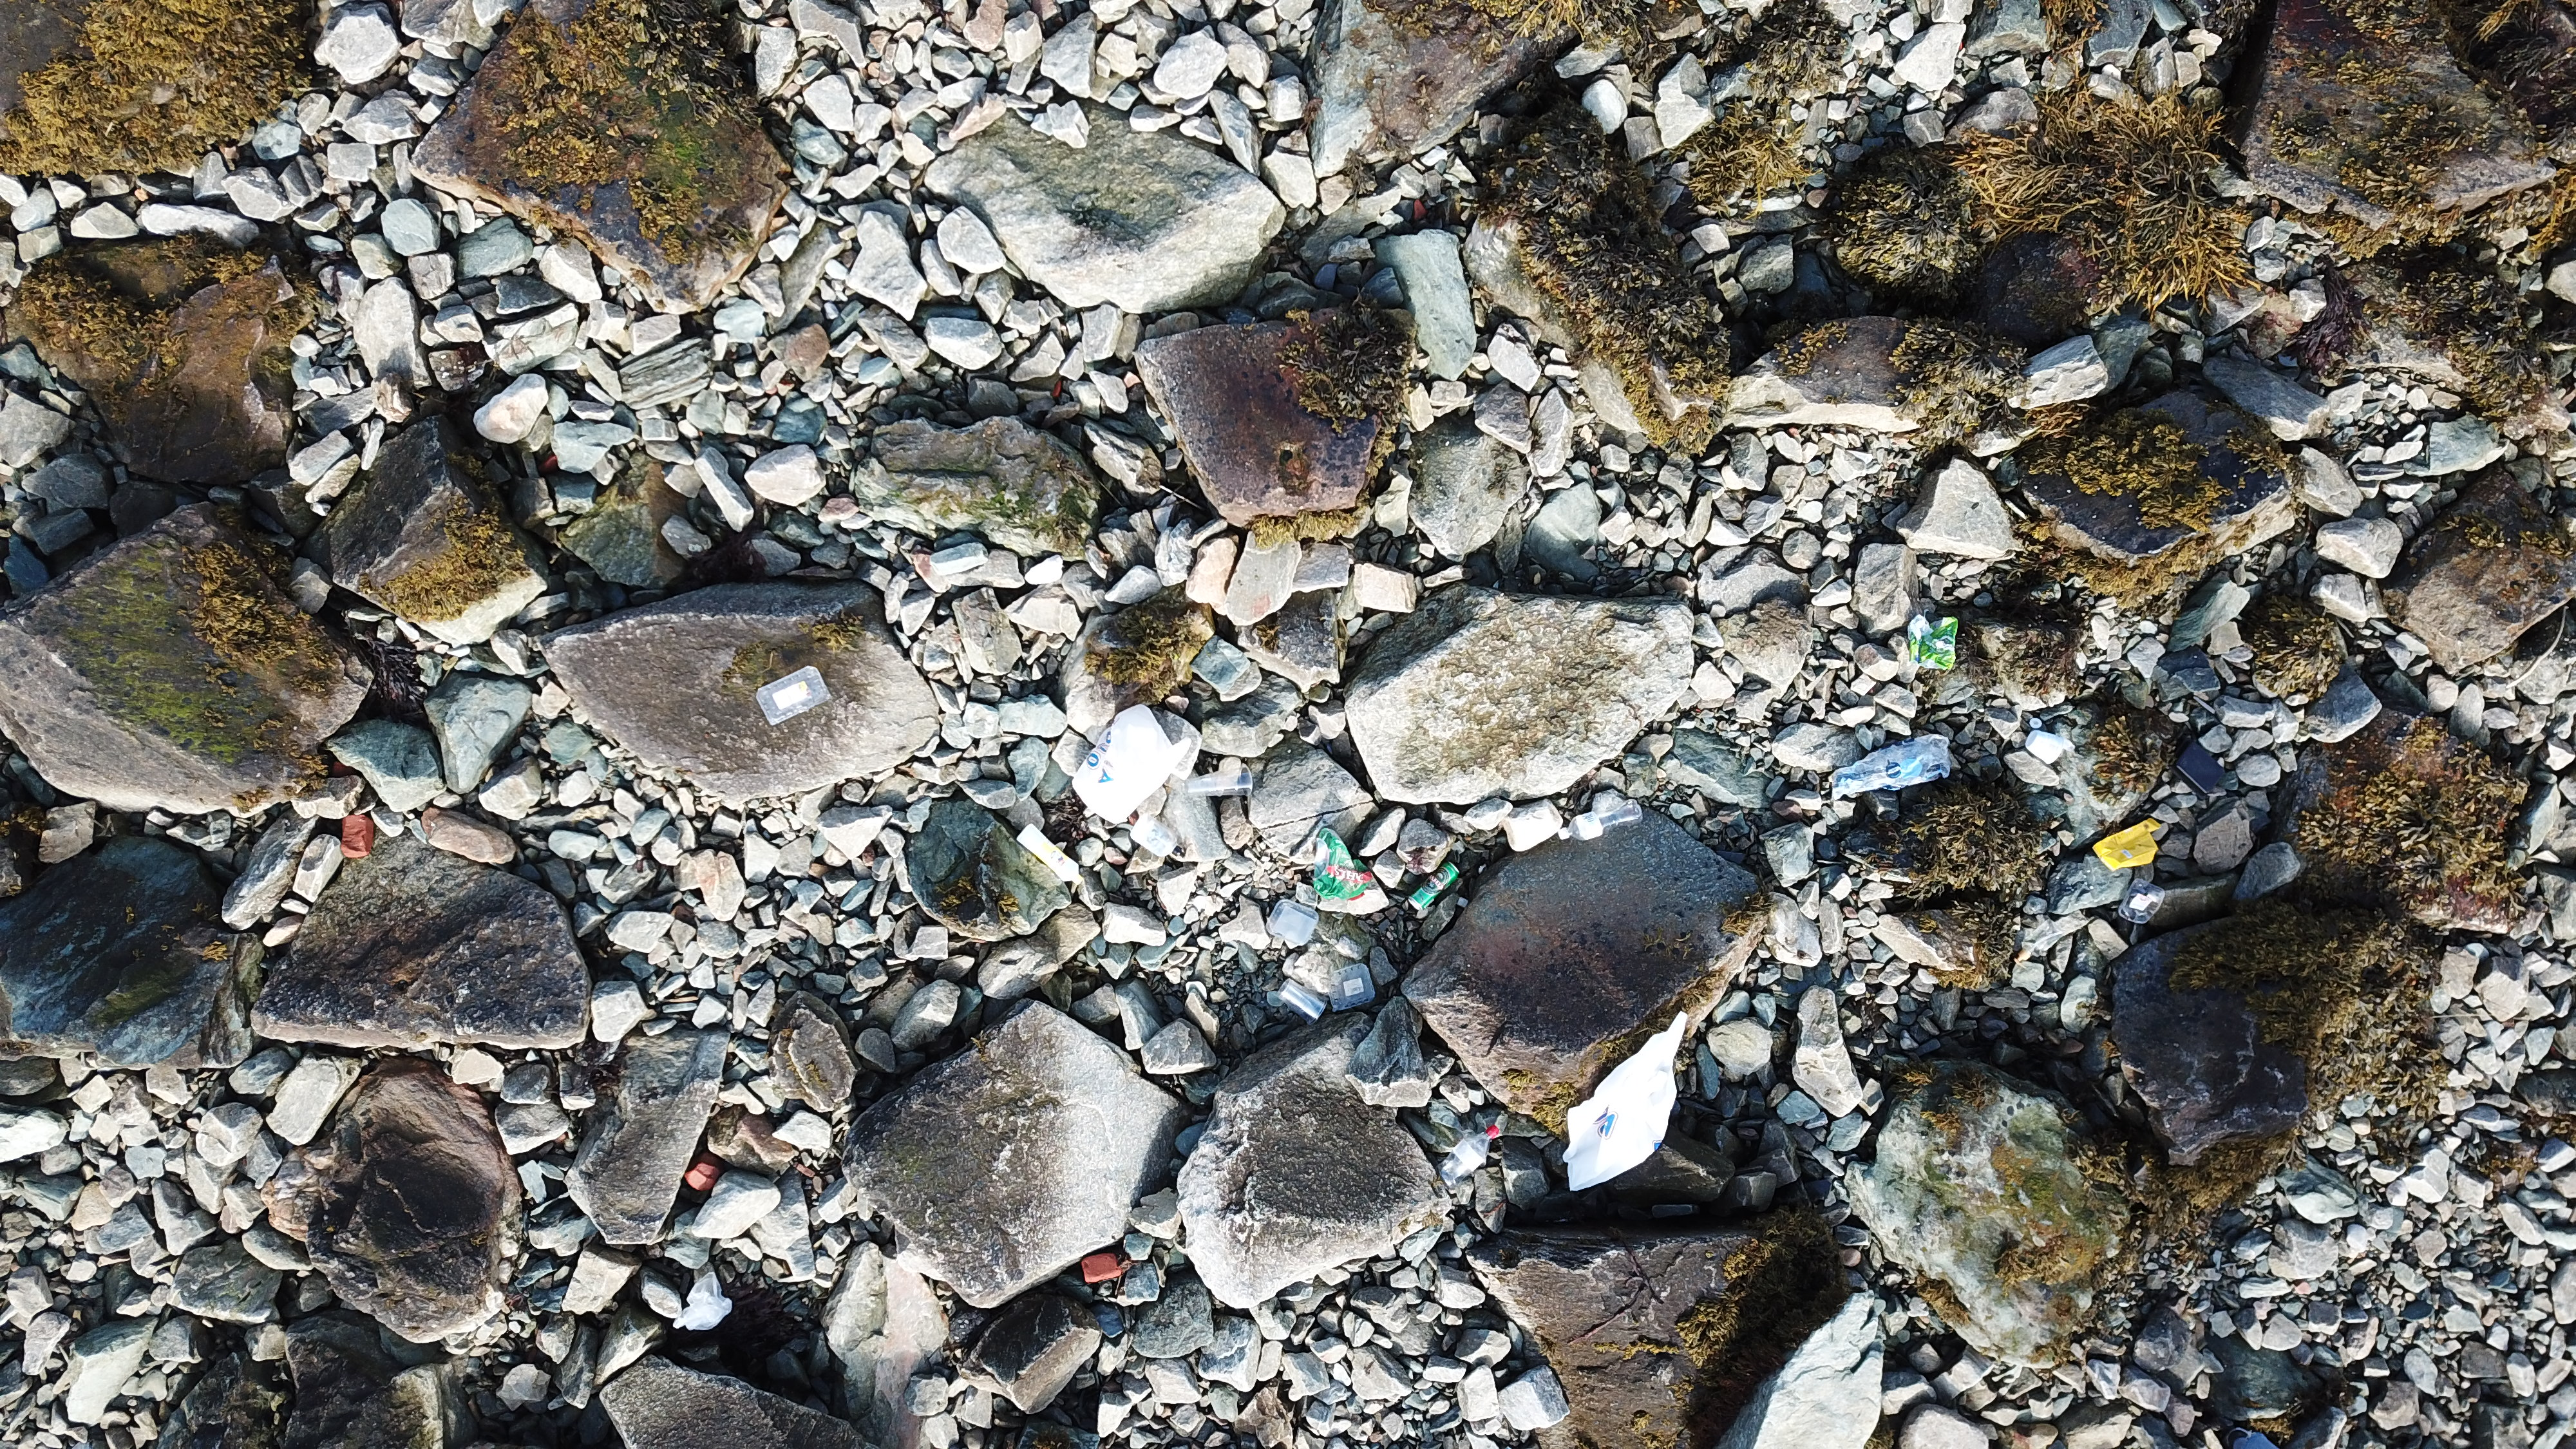Can: (1408, 862, 1463, 915)
Plastic: (1562, 1007, 1691, 1192), (1072, 701, 1200, 826), (1828, 731, 1955, 801), (1307, 828, 1373, 908), (757, 663, 833, 729), (1019, 824, 1088, 890), (2091, 821, 2166, 874), (671, 1272, 734, 1334), (1907, 614, 1960, 671), (1325, 964, 1376, 1014), (1277, 978, 1329, 1023)
PlasticBottle: (1437, 1120, 1504, 1196)
